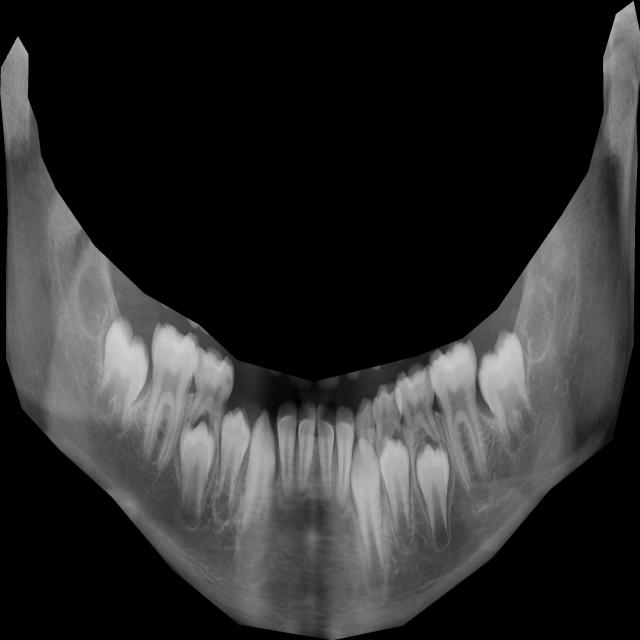mandibula: (0, 1, 640, 640)
